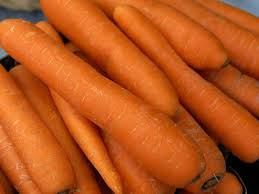carrot: (6, 24, 194, 177), (118, 8, 259, 145), (45, 2, 185, 109)
